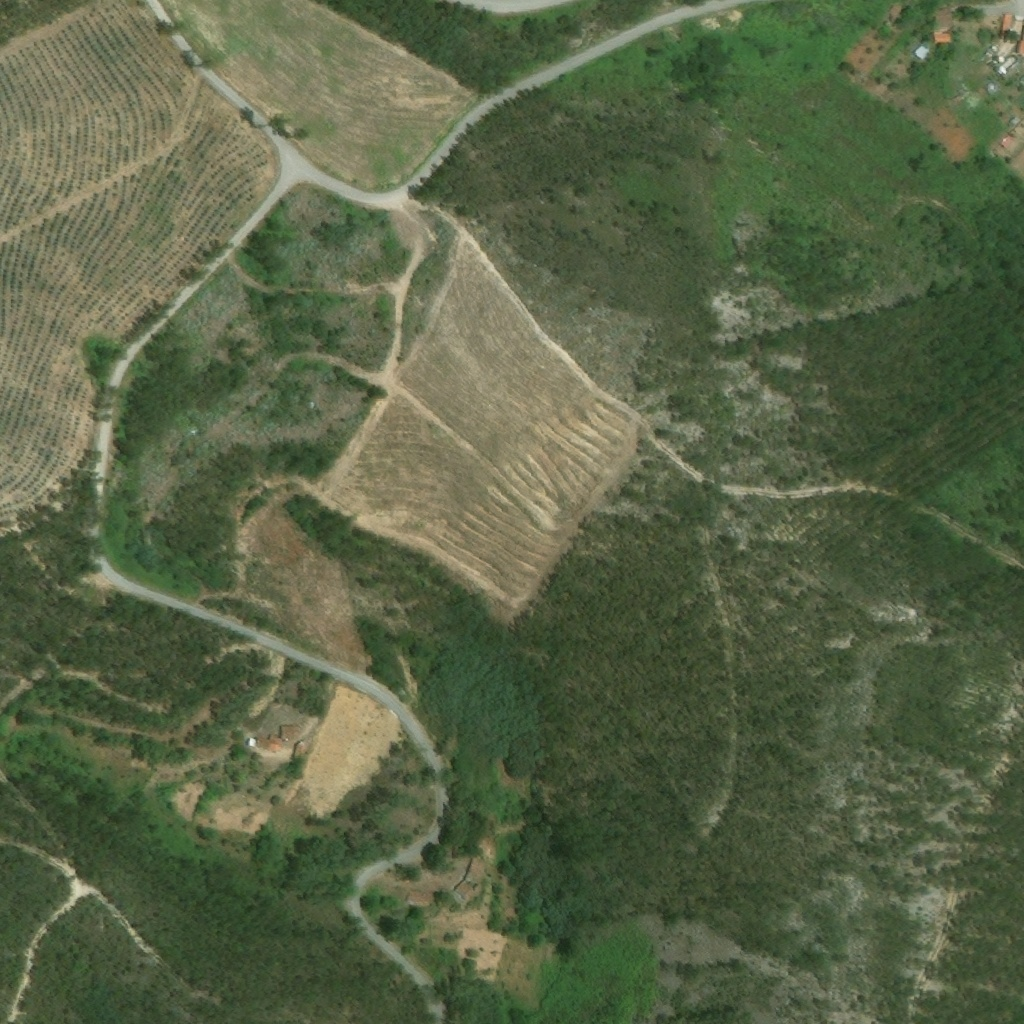0 no-damage: (454, 859, 487, 900), (406, 891, 435, 904), (933, 11, 953, 28), (911, 44, 928, 60), (281, 725, 298, 740), (265, 735, 281, 749), (1000, 13, 1011, 31), (933, 34, 950, 43), (242, 736, 257, 746)
4 un-classified: (889, 6, 902, 22), (1014, 33, 1023, 53)
